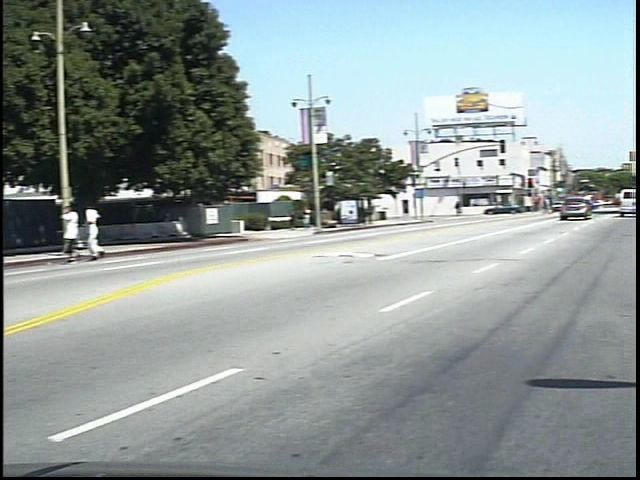person: (73, 201, 99, 264), (95, 202, 121, 263), (310, 205, 325, 234), (298, 207, 312, 233), (465, 198, 477, 219)
